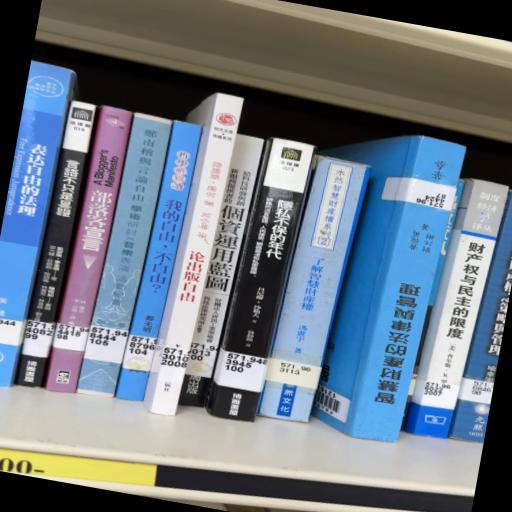reverse: (311, 135, 465, 441)
